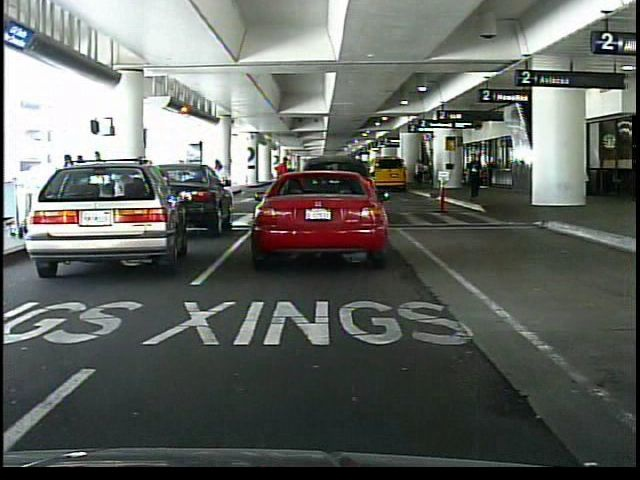person: (92, 147, 113, 219), (212, 157, 233, 213), (274, 153, 294, 202), (464, 155, 484, 201), (413, 155, 426, 191)
